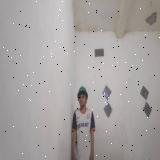Helmet: (78, 86, 88, 100)
